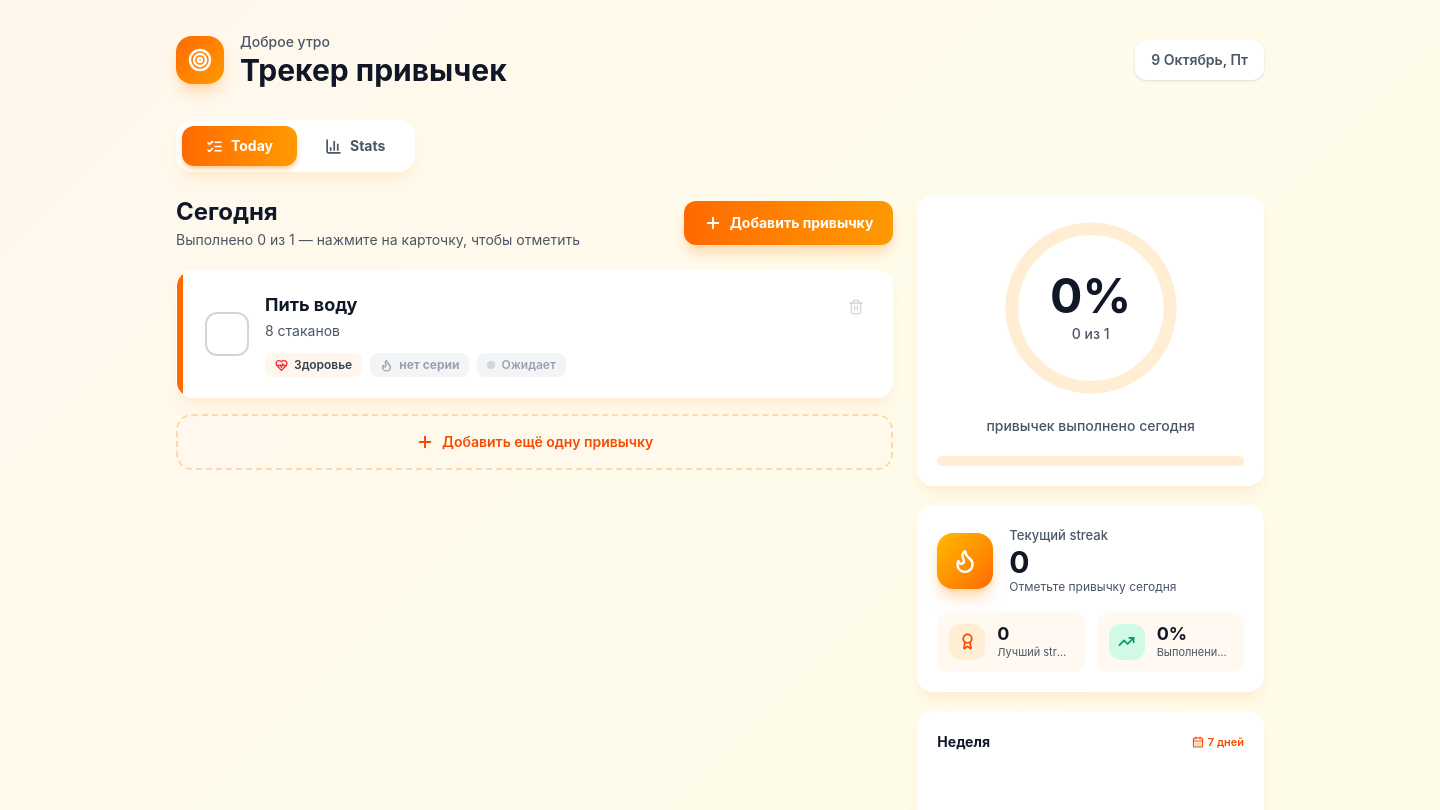
Scenario: Today — добавление привычки › блокирует кнопку, пока не введено название
This screenshot has width=1440, height=810.
Click the button "Добавить привычку".
click(788, 223)  # box [684,201,893,245]
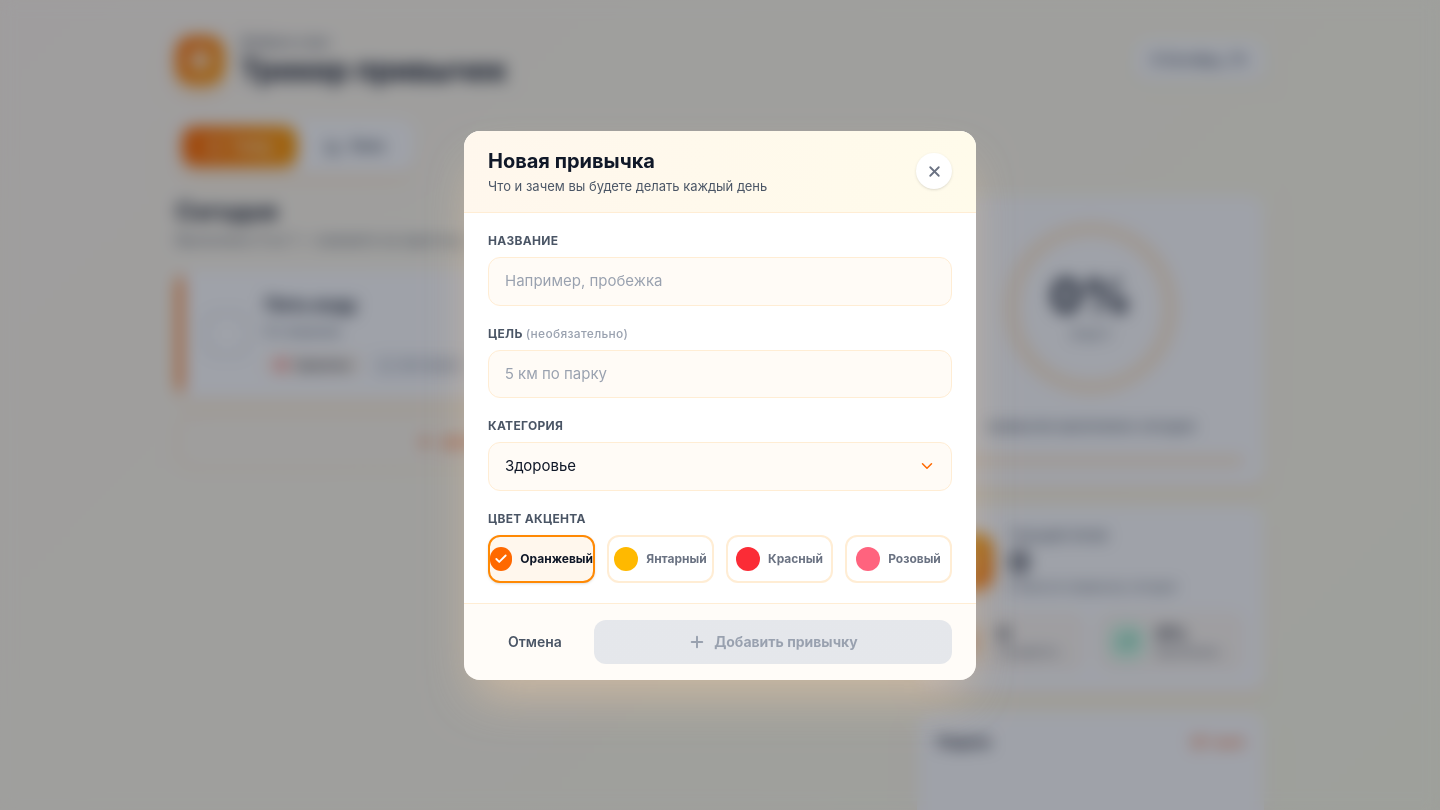
Result: the button "Добавить привычку" is disabled at [594,620,952,664]
Type "Б" into the field with placeholder "Например, пробежка".
click(720, 281); type("Б")  # box [488,257,952,306]
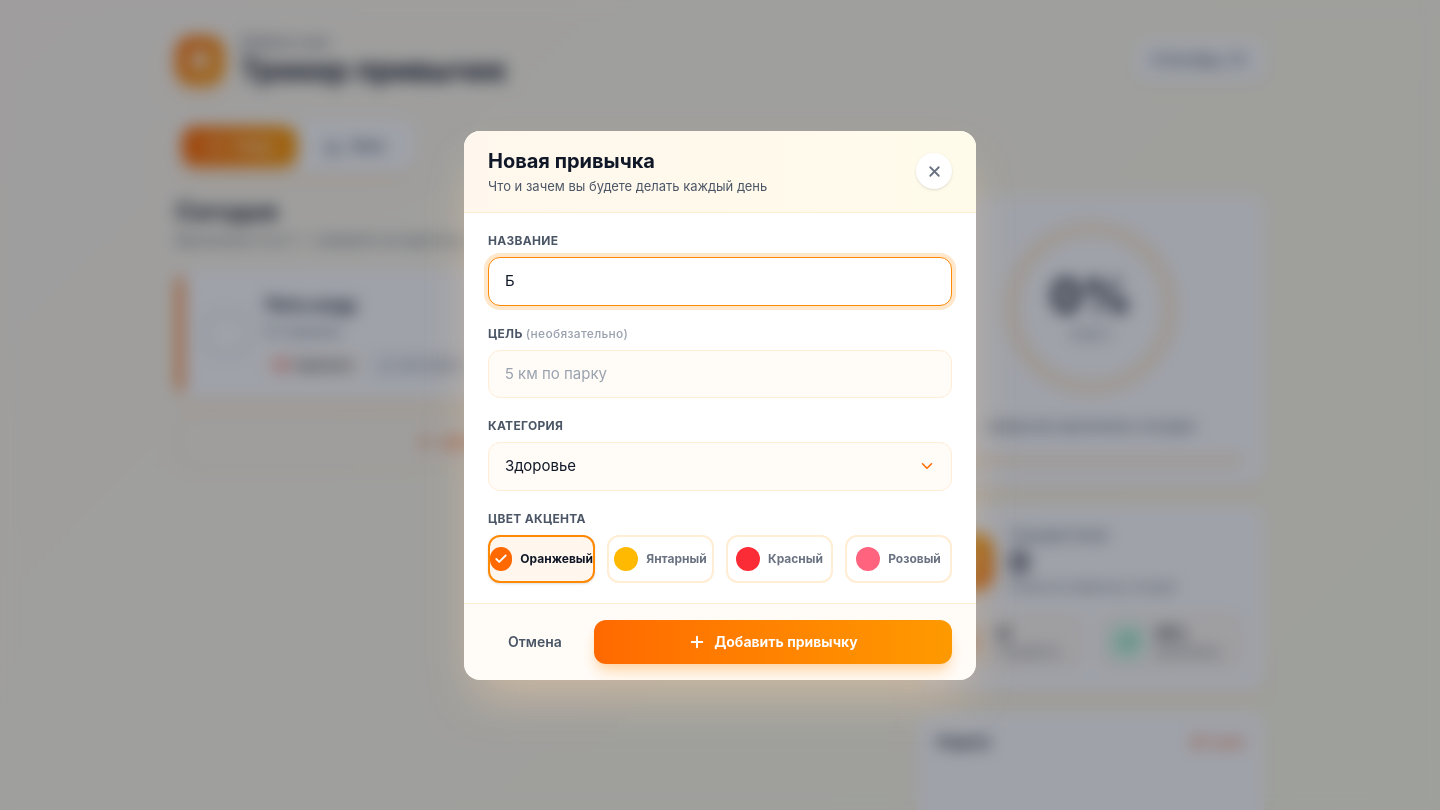
Result: the button "Добавить привычку" is enabled at [594,620,952,664]
